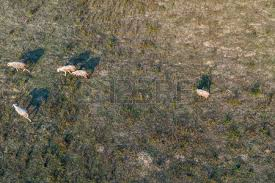sheep: (10, 102, 31, 122), (55, 62, 76, 76), (192, 85, 210, 99), (5, 60, 26, 72), (70, 69, 88, 78)
